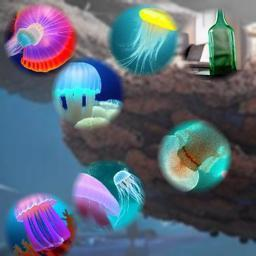not an animal: (198, 7, 245, 80)
